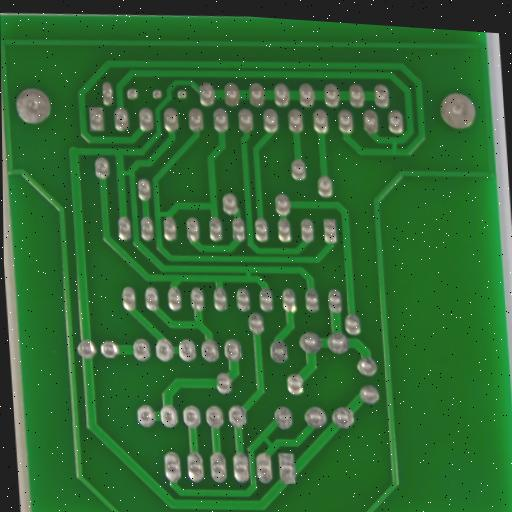short_circuit: (152, 203, 178, 228), (256, 431, 279, 456), (384, 134, 405, 160), (111, 163, 137, 184), (236, 265, 258, 285)
